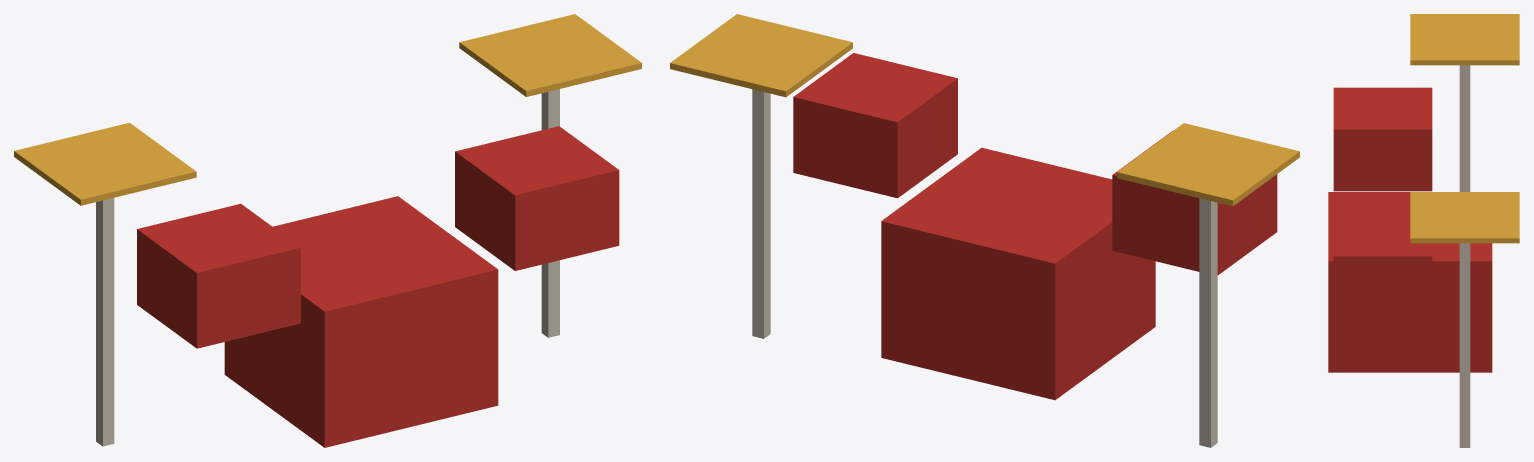
File: middle_drums.glb
The picture shows the model from 3 angles, left to right: view 1: azimuth 30°, elevation 25°; view 2: azimuth 150°, elevation 25°; view 3: azimuth 270°, elevation 25°; orthographic projection. The views are drawn at different scales.
Parts seen in each view (by area): view 1: Box1, Box5, Box2, Box4, Box7, Box3, Box6; view 2: Box1, Box5, Box2, Box7, Box4, Box3, Box6; view 3: Box1, Box2, Box5, Box4, Box7, Box6, Box3.
Boxes of the visible parts, x1,y1,x2,y2 form: Box1: [224, 196, 498, 447]; Box5: [455, 126, 619, 270]; Box2: [137, 203, 300, 348]; Box4: [14, 122, 196, 205]; Box7: [459, 14, 641, 96]; Box3: [96, 198, 114, 446]; Box6: [541, 89, 559, 337]; Box1: [881, 147, 1155, 400]; Box5: [793, 53, 957, 198]; Box2: [1112, 131, 1277, 275]; Box7: [670, 14, 852, 97]; Box4: [1117, 123, 1299, 206]; Box3: [1199, 198, 1217, 447]; Box6: [752, 89, 770, 338]; Box1: [1328, 192, 1492, 372]; Box2: [1333, 87, 1432, 191]; Box5: [1333, 214, 1432, 318]; Box4: [1410, 14, 1519, 65]; Box7: [1410, 192, 1519, 243]; Box6: [1459, 243, 1470, 447]; Box3: [1459, 65, 1470, 191].
Bounding box in the file's own units: 1.94 × 0.93 × 0.7.
